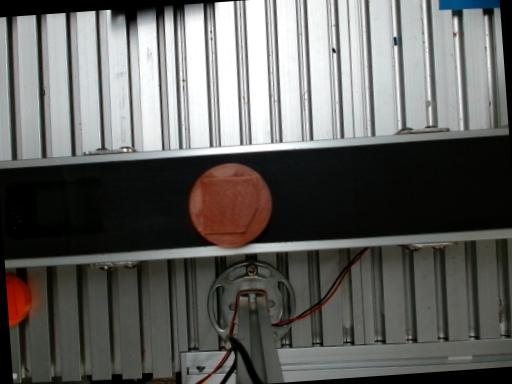Brown_Waper: (189, 163, 272, 247)
Not_Square: (200, 176, 259, 233)
